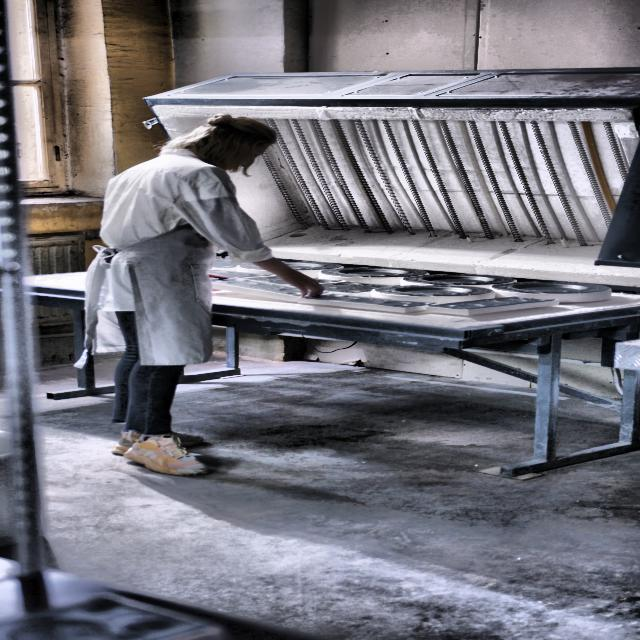not-gloved: (261, 266, 361, 306)
